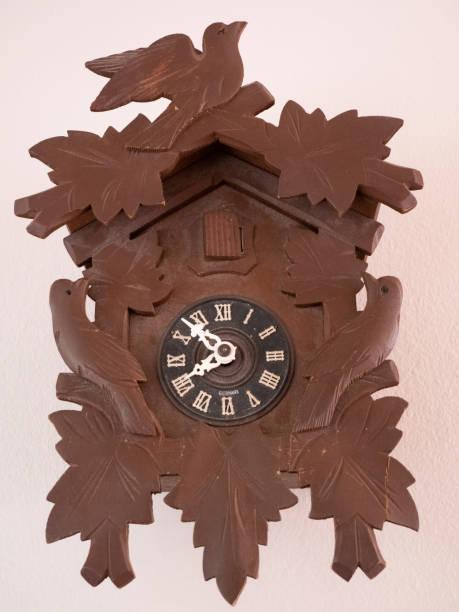clock: (159, 297, 294, 426)
